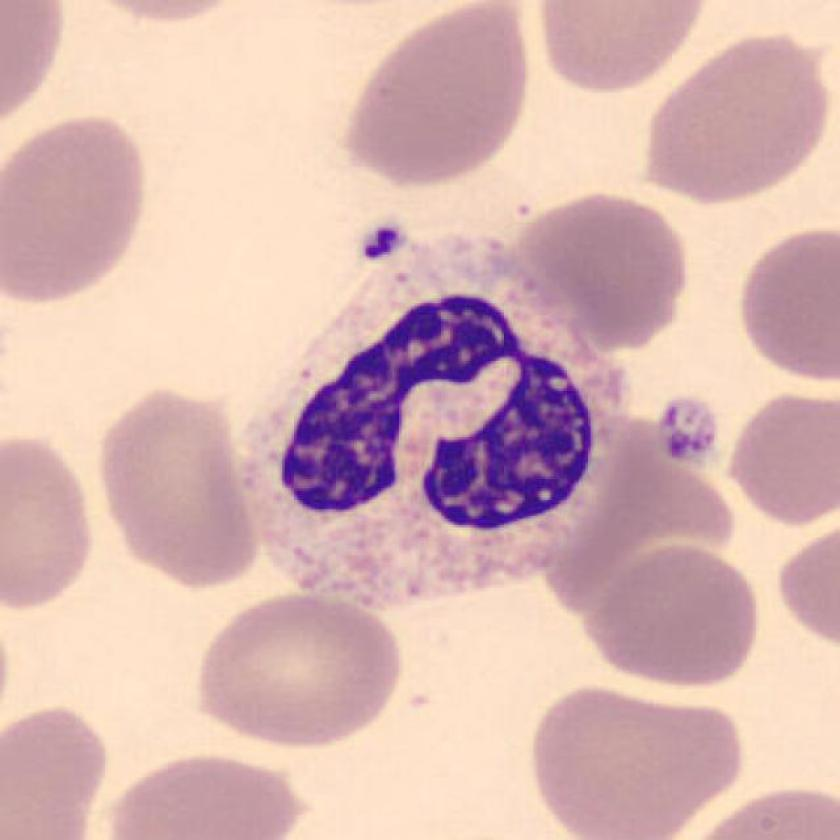neutrophil: (238, 240, 621, 606)
